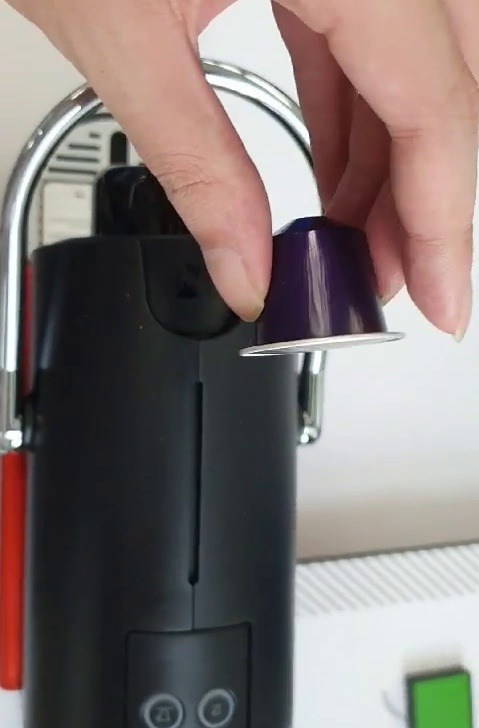capsule_2: (237, 213, 405, 360)
